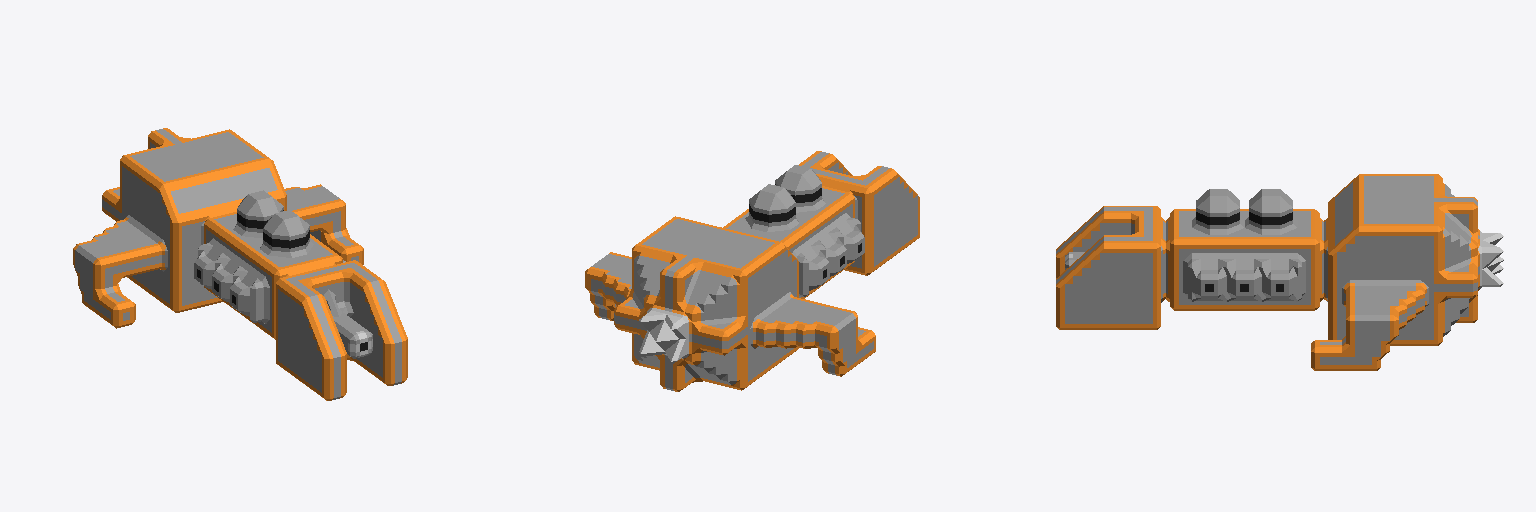
3 renders of one model, left to right at view 1: azimuth 30°, elevation 25°; view 2: azimuth 150°, elevation 25°; view 3: azimuth 270°, elevation 25°, orthographic.
Bounding box in the file's own units: 33 × 16 × 51.
Materials: 1 (1 with a texture image).